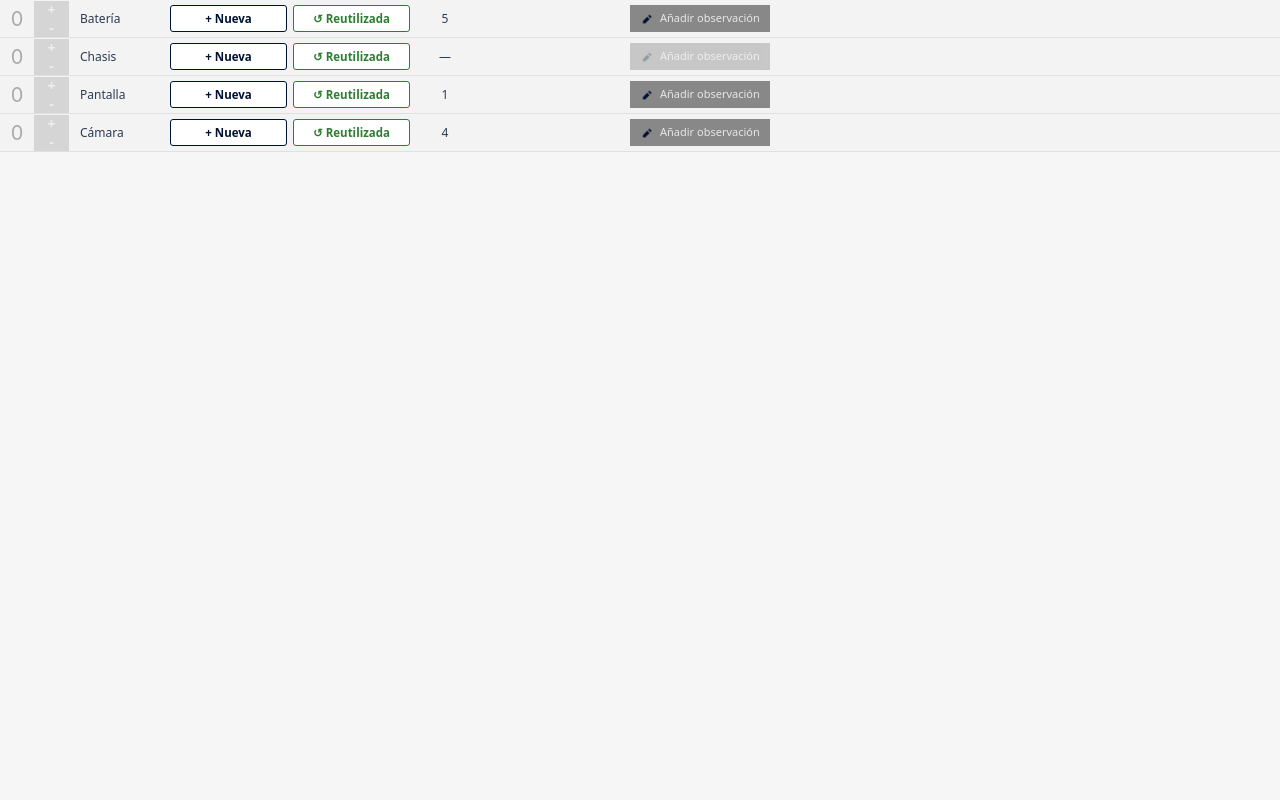
Test: FilaComponente (ficha docs/paridad/formulario.md · Filas de componente) › el SKU sin stock sale en rojo y el bajo en ámbar, en la lista y en el botón
Click the button with aria-label "Nueva Batería". click: coordinates (228, 18)
box: [170, 5, 287, 32]
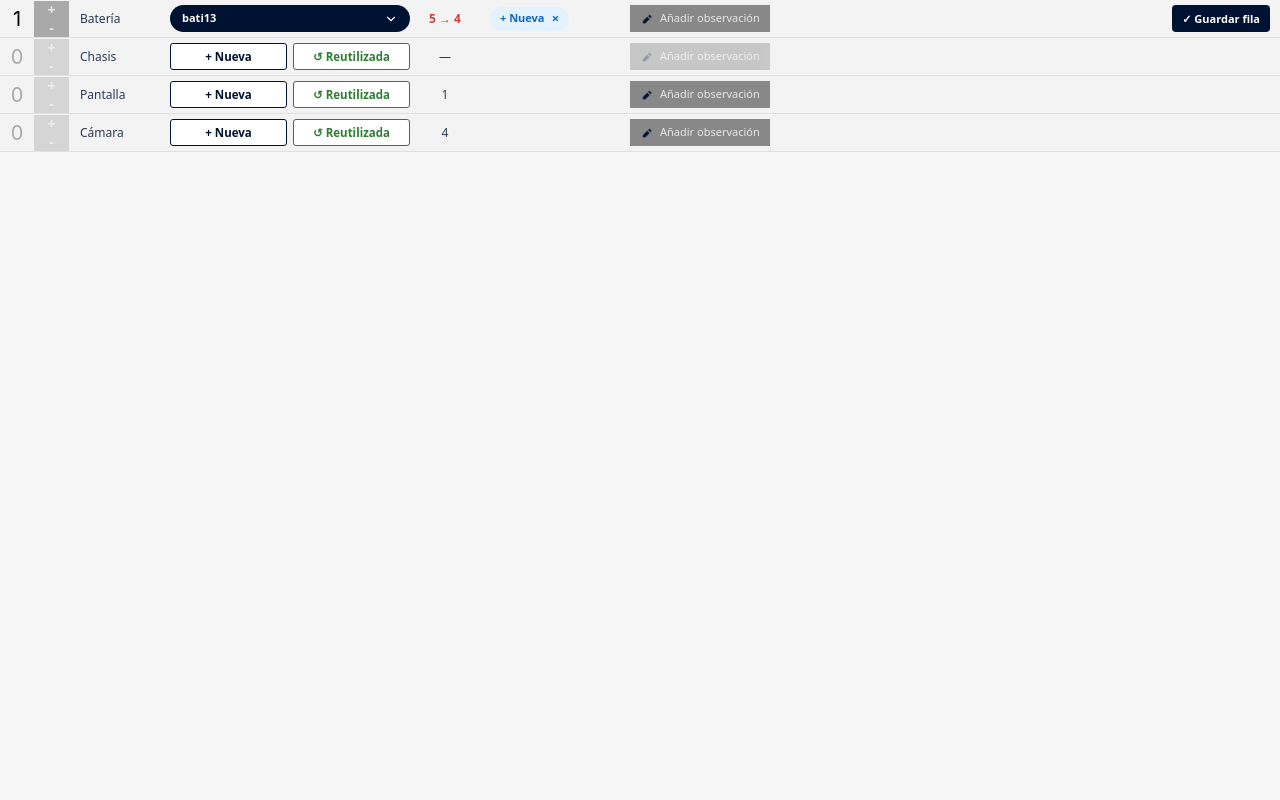
Click the dropdown named "SKU de Batería". click: coordinates (290, 18)
box: [170, 5, 410, 32]
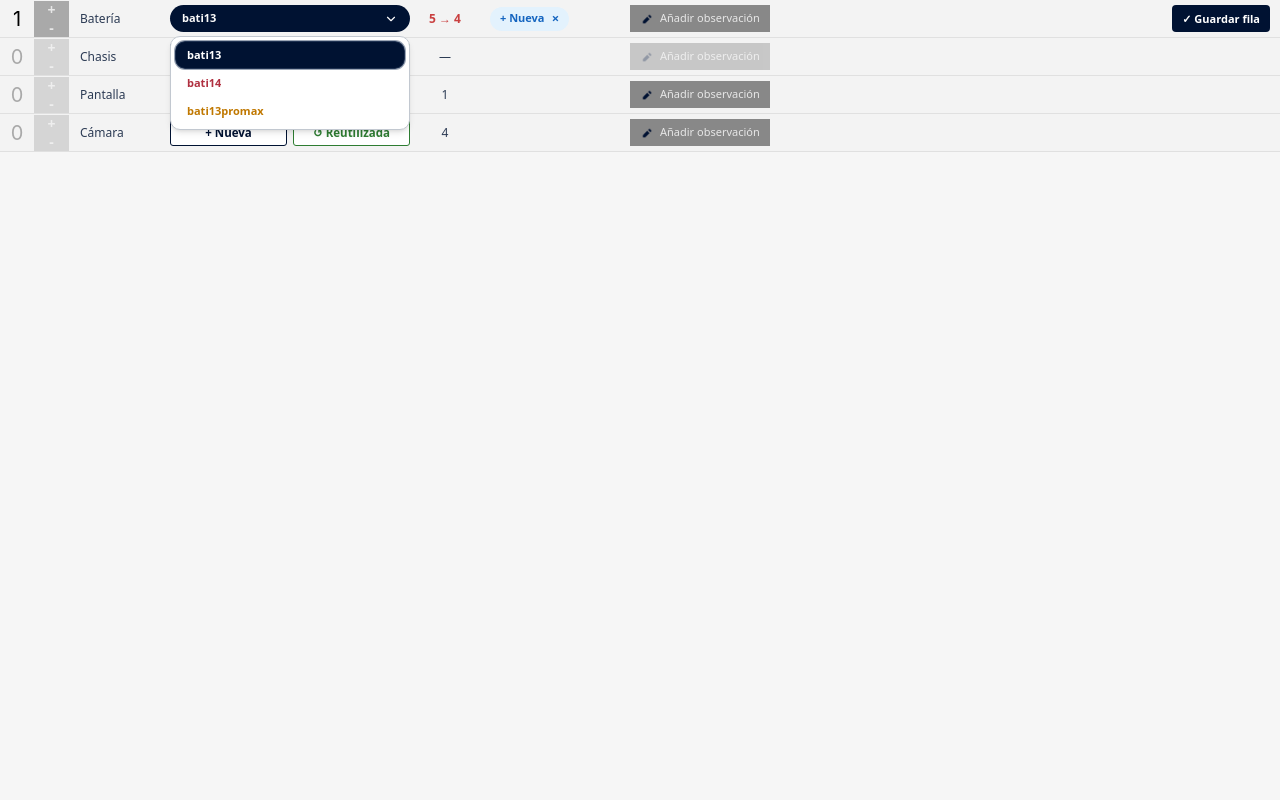
Expected: the options read "bati13", "bati14", "bati13promax", in this order, [171, 41, 409, 69]; [171, 69, 409, 97]; [171, 97, 409, 125]
Click the button "bati14". click: coordinates (290, 83)
box: [175, 69, 405, 97]
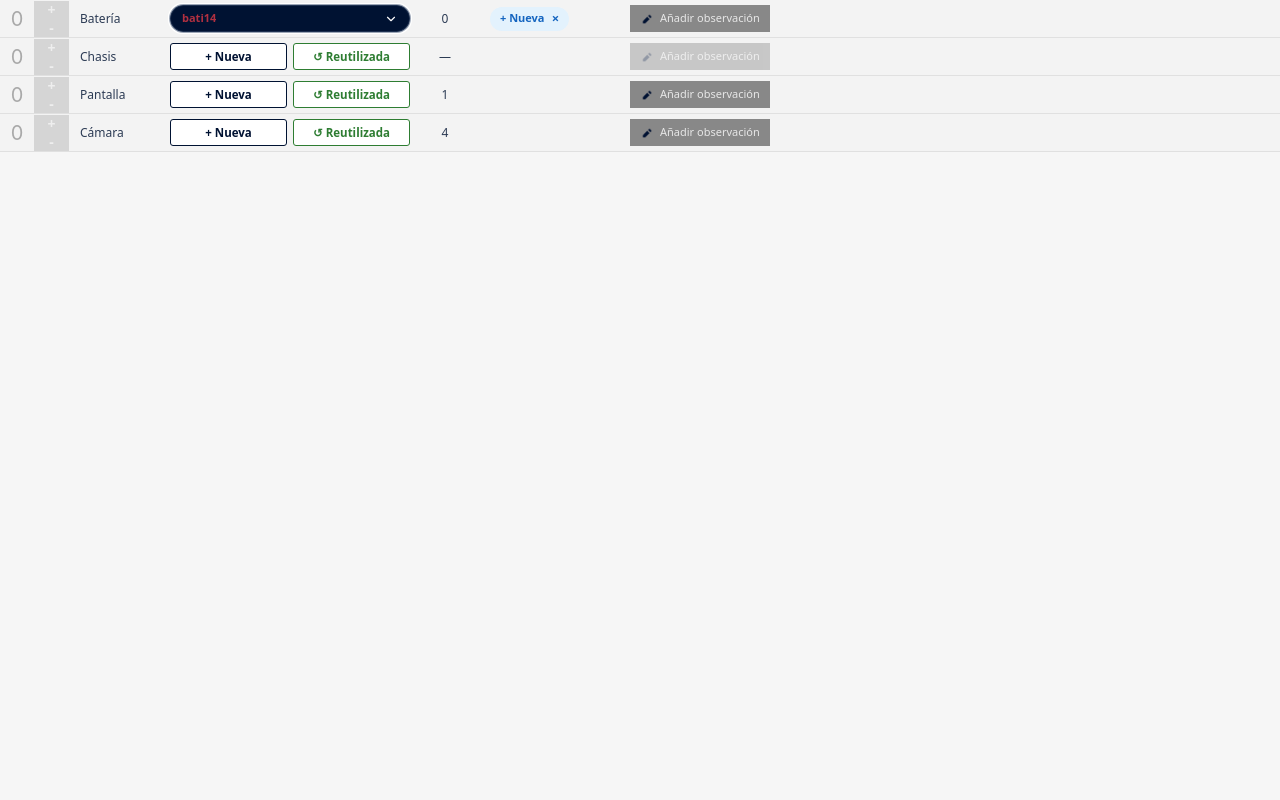
Expected: the text with test id "stock-bat" reads "0", [442, 10, 448, 26]
Expected: the dropdown named "SKU de Batería" reads "bati14", [170, 5, 410, 32]
